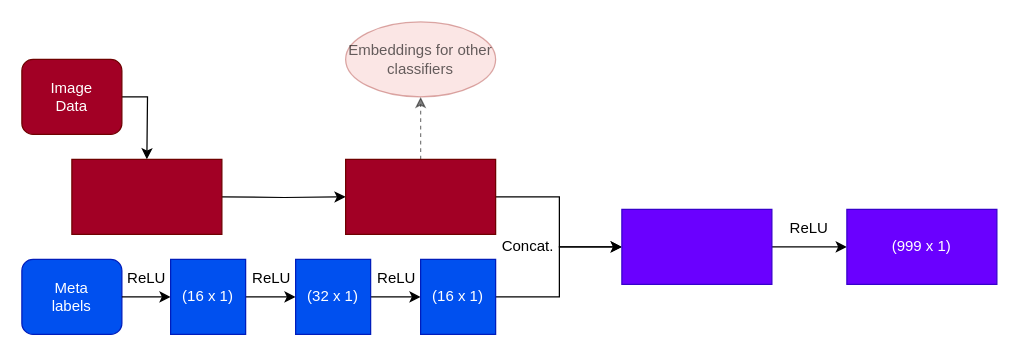
The diagram is 1019 pixels wide and 356 high, and some of its shapes have lost their labels. The centre of each missing label's shape, as x and y in pixels:
"(2048 x 1)" goes at [420,196].
"(2064 x 1)" goes at [696,246].
"ResNet50" goes at [146,196].
